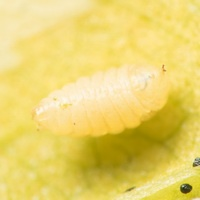insect: (33, 65, 168, 135), (193, 157, 199, 166)
